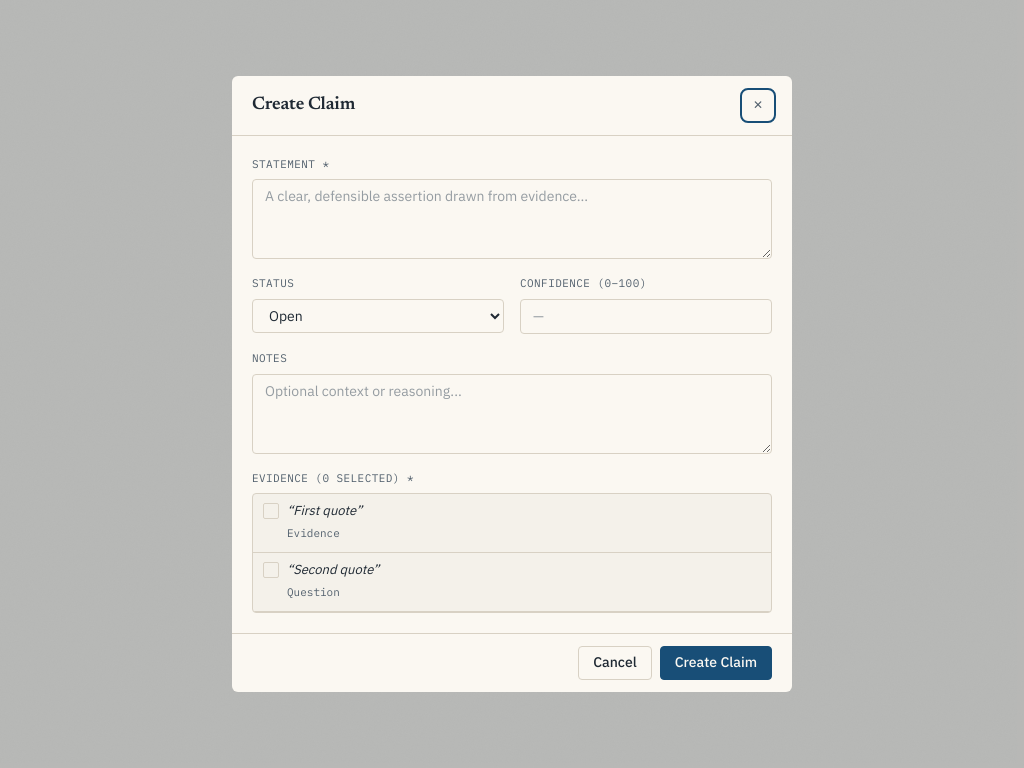
Test: CreateClaimModal › shows action errors without closing the modal
The width and height of the screenshot is (1024, 768).
Step 1. Type "This evidence supports the claim." into the text box with placeholder "A clear, defensible assertion drawn from evidence..." → (512, 219), box [252,179,772,259]
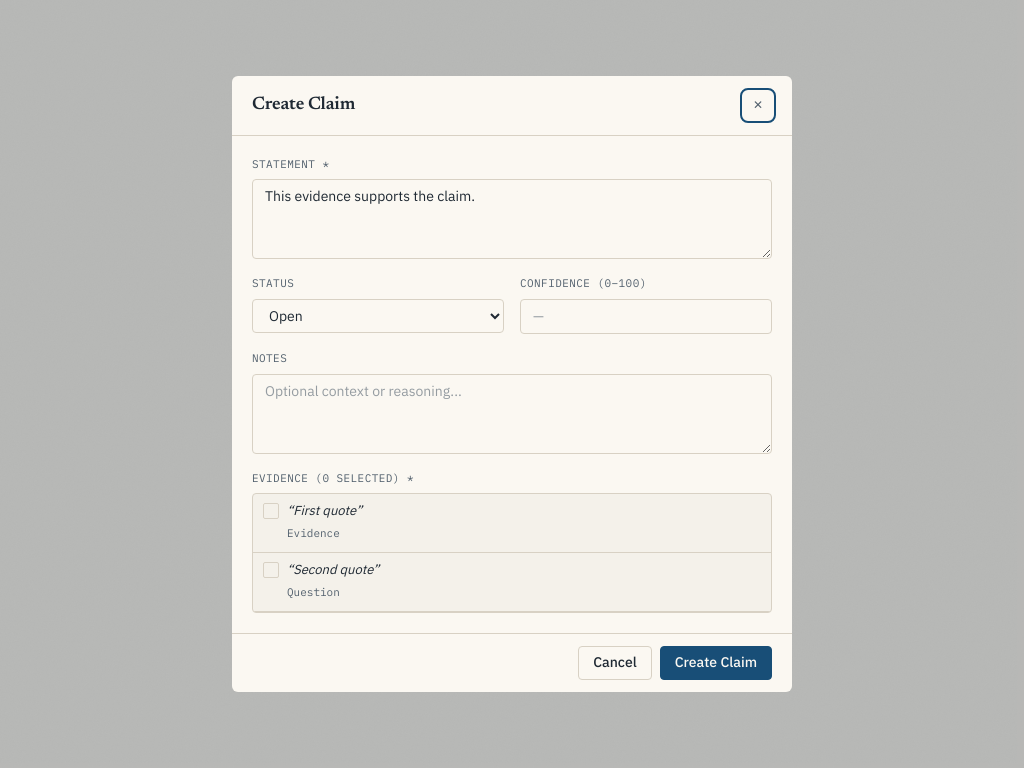
Step 2. Submit the form "Create Claim", box [232,76,792,692]
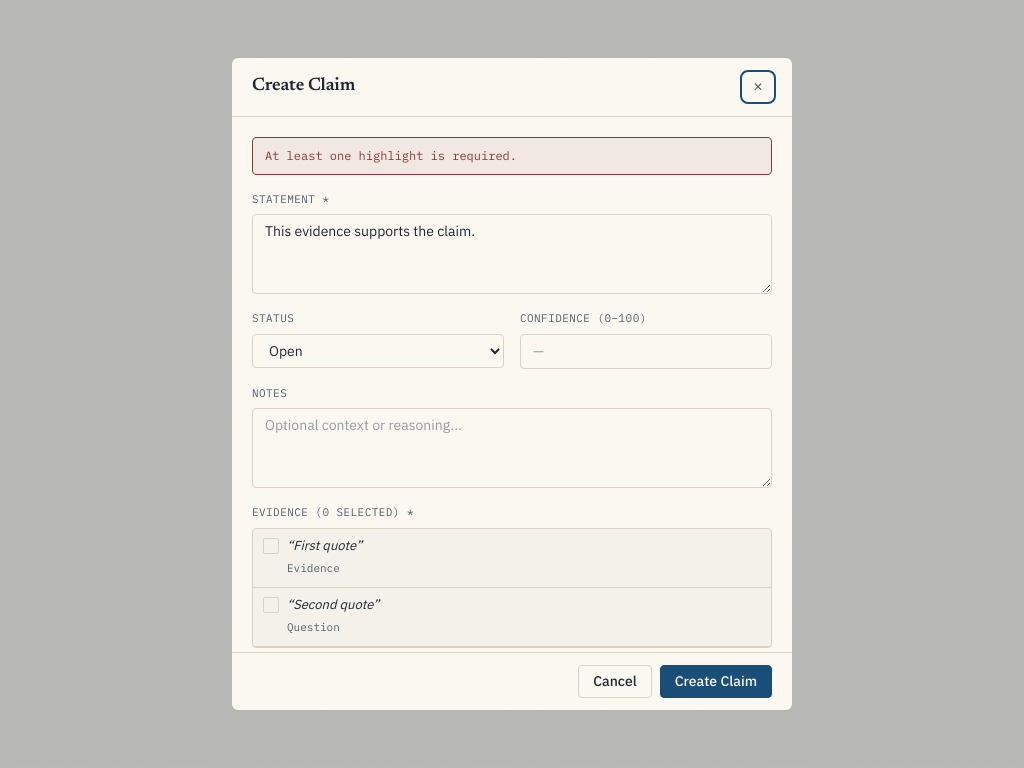
Result: the text "At least one highlight is required." is shown at [252,137,772,175]
